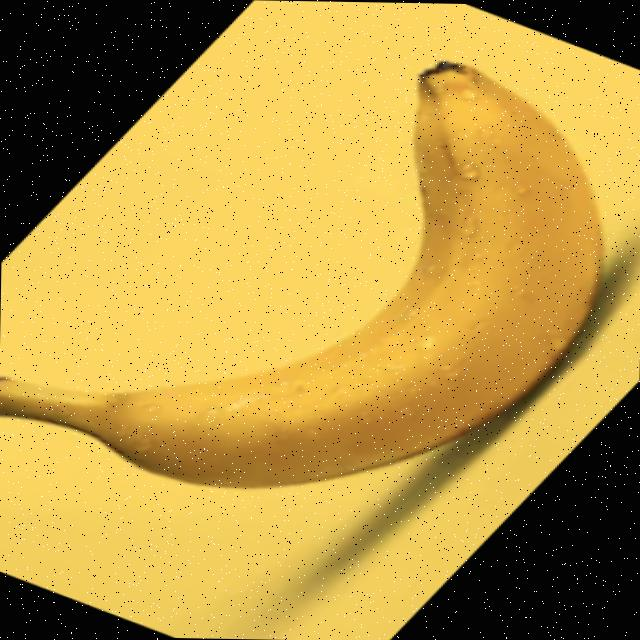banana: (0, 49, 610, 495)
